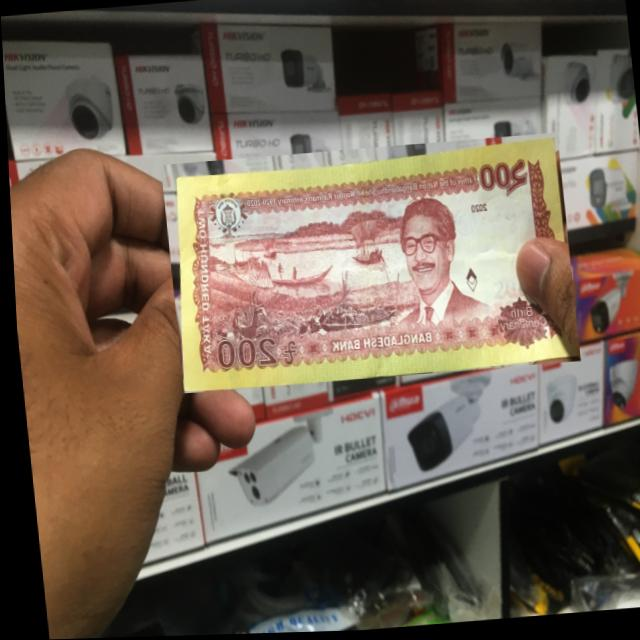Taka: (158, 135, 577, 395)
